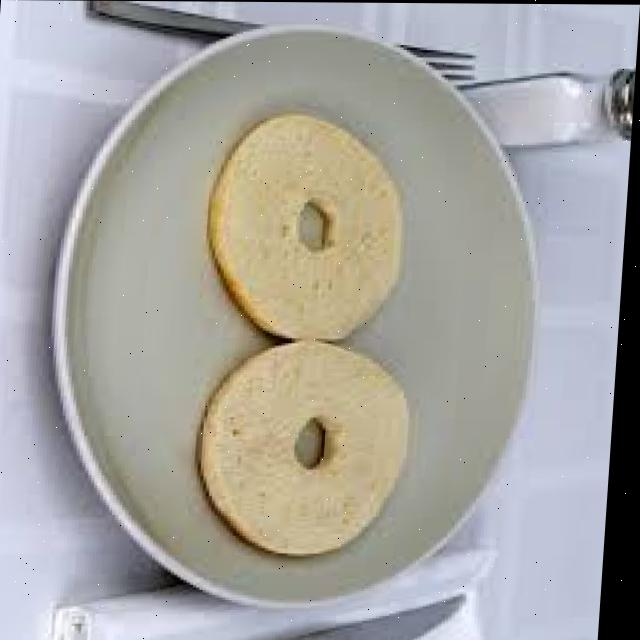Bagel: (206, 343, 408, 554), (212, 114, 402, 338)
